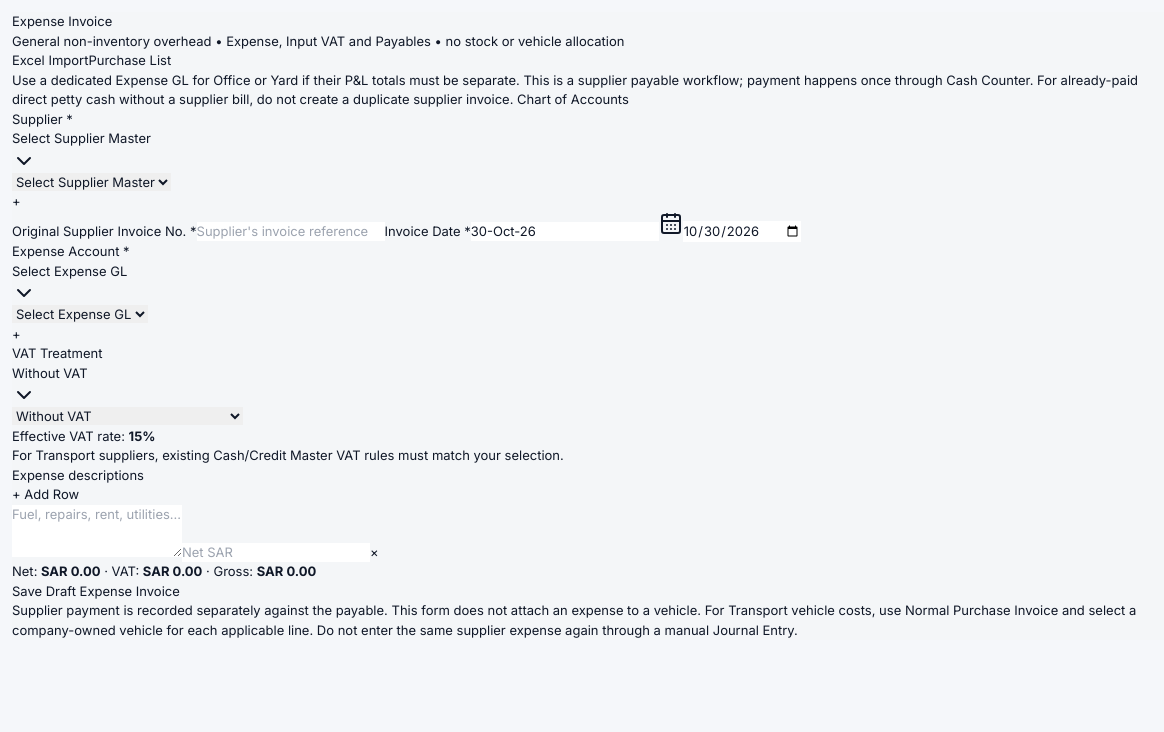
Test: General Expense Bill non-inventory workflow › never presents a false success on denied posting
The width and height of the screenshot is (1164, 732).
Select "Test Supplier" in the dropdown named "Expense invoice supplier" at (92, 182), box [12,172,171,190]
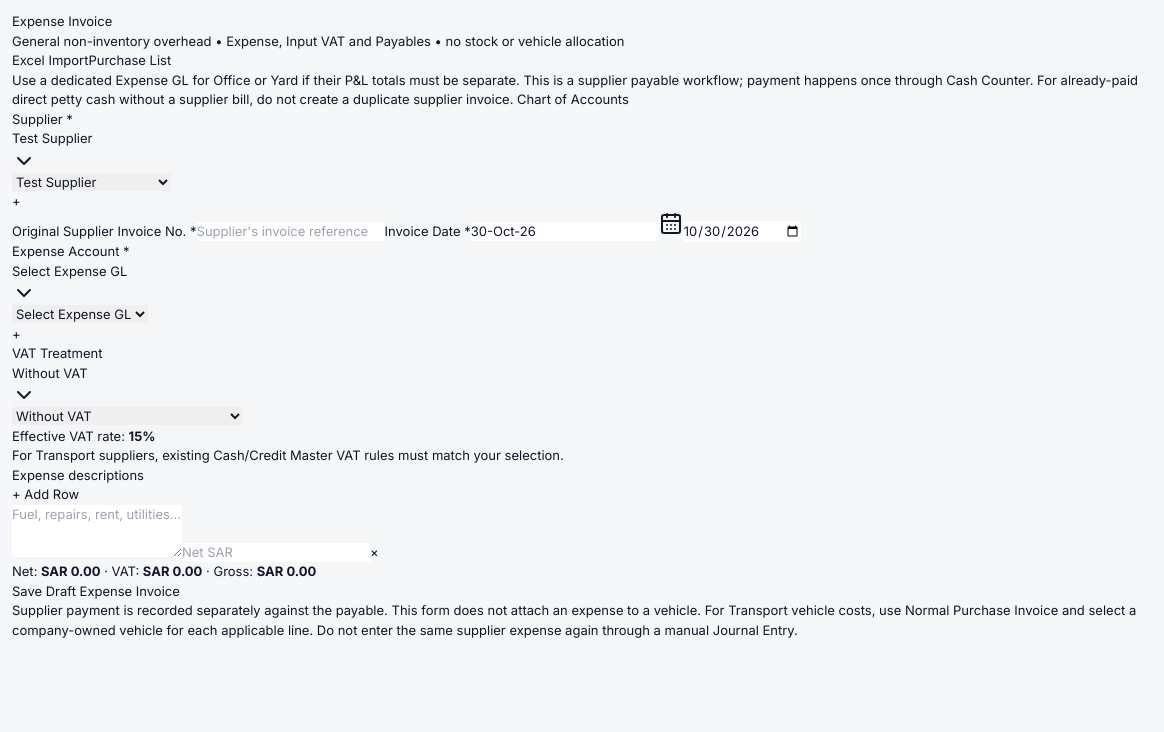
Type "SUP-001" into the field named "Expense supplier invoice number".
click(290, 231); type("SUP-001")  # box [196,222,384,241]
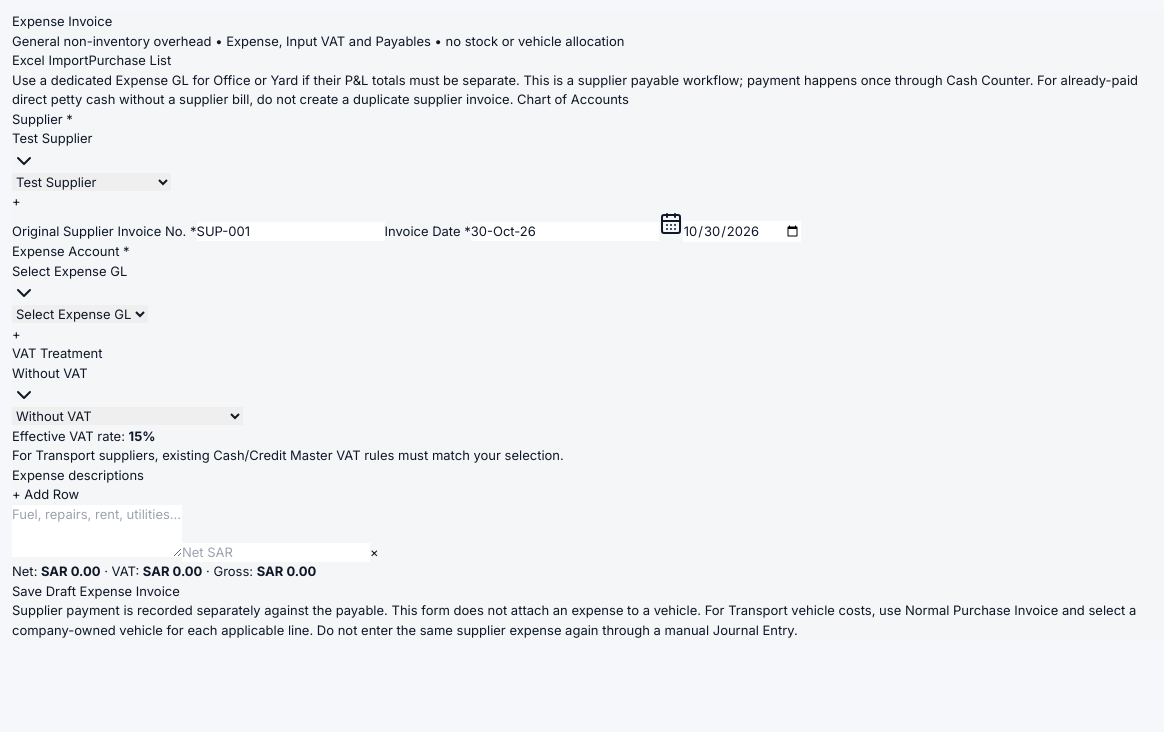
Select "Repairs Expense" in the dropdown named "Expense invoice account" at (80, 314), box [12,305,148,323]
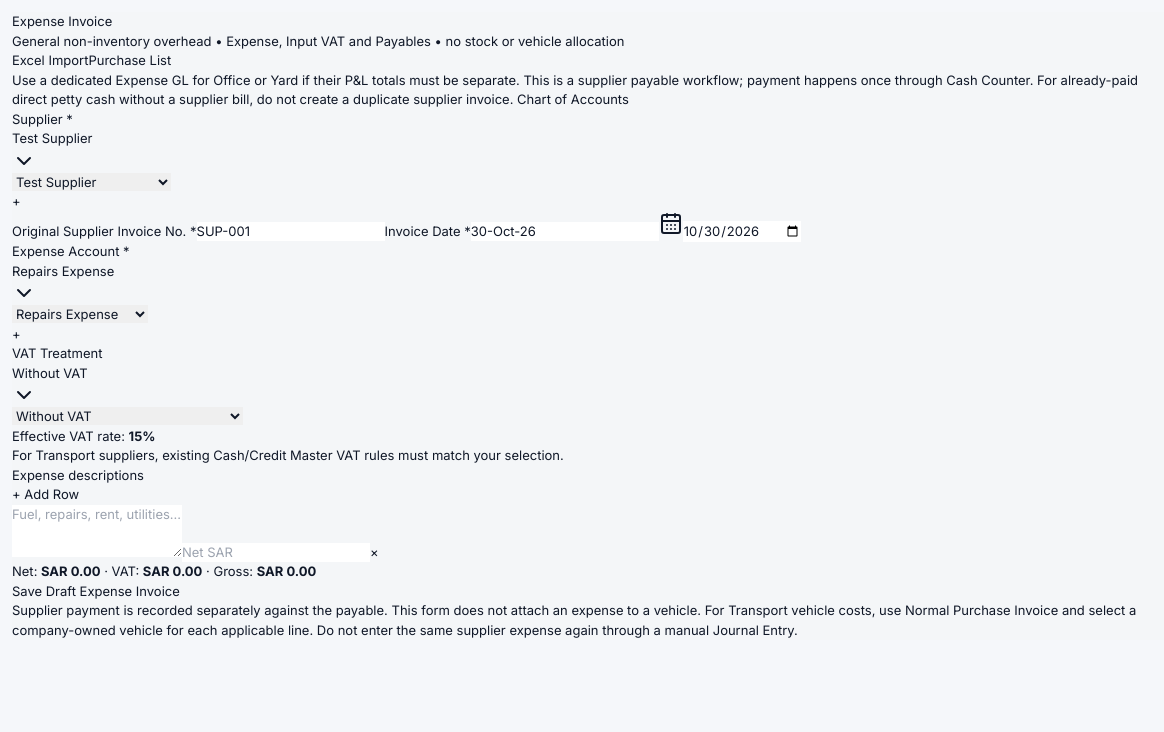
Type "Vehicle repairs" into the text box named "Expense description 1".
click(97, 530); type("Vehicle repairs")  # box [12,504,182,556]
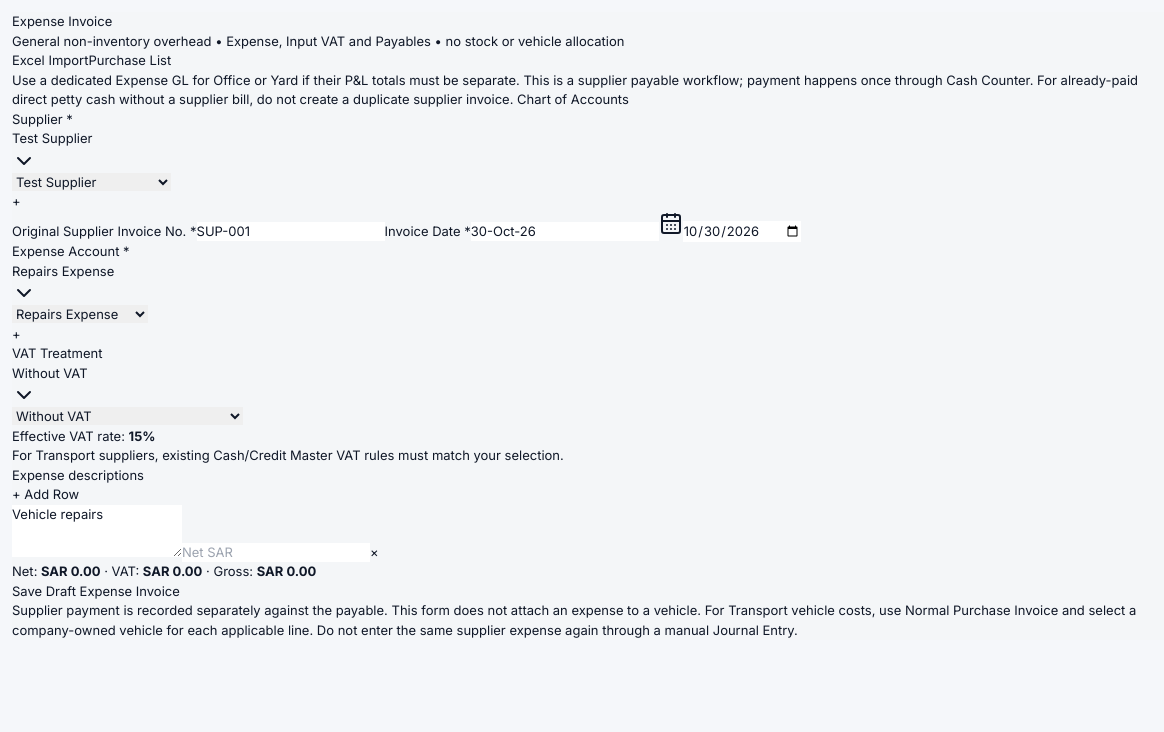
Type "100" into the field named "Expense amount 1".
click(276, 552); type("100")  # box [182,542,370,562]
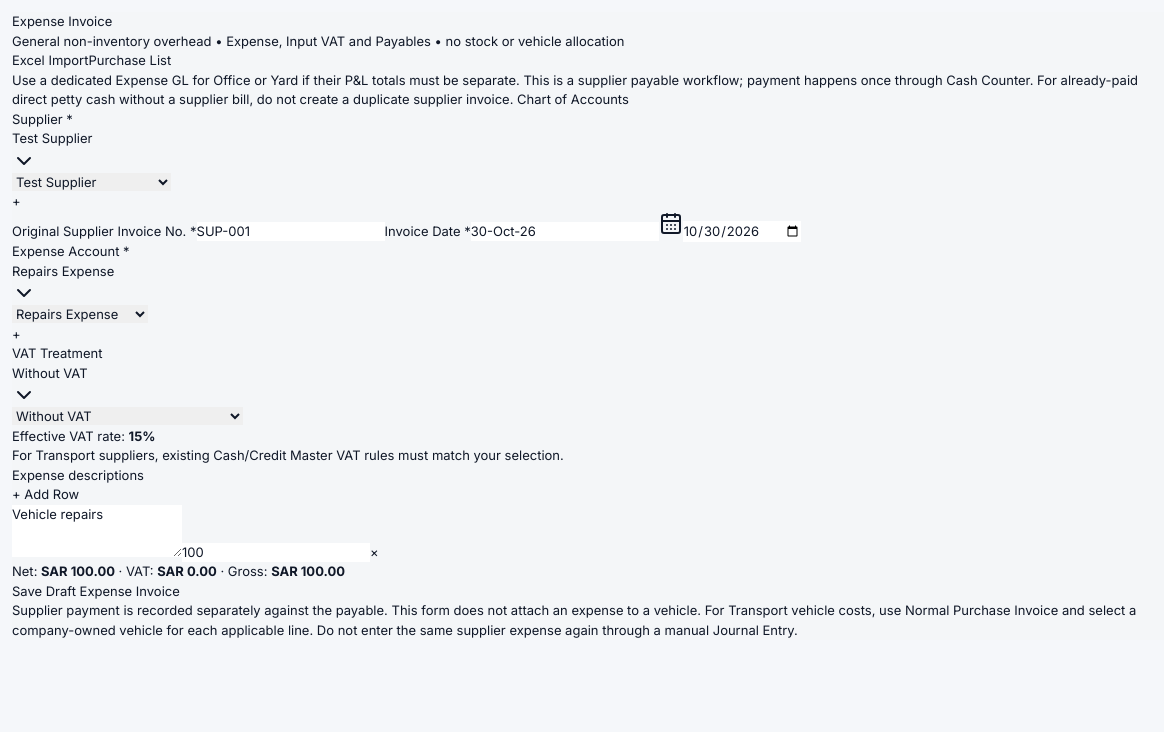
Click the button "Save Draft Expense Invoice".
click(96, 591)  # box [12,582,180,601]
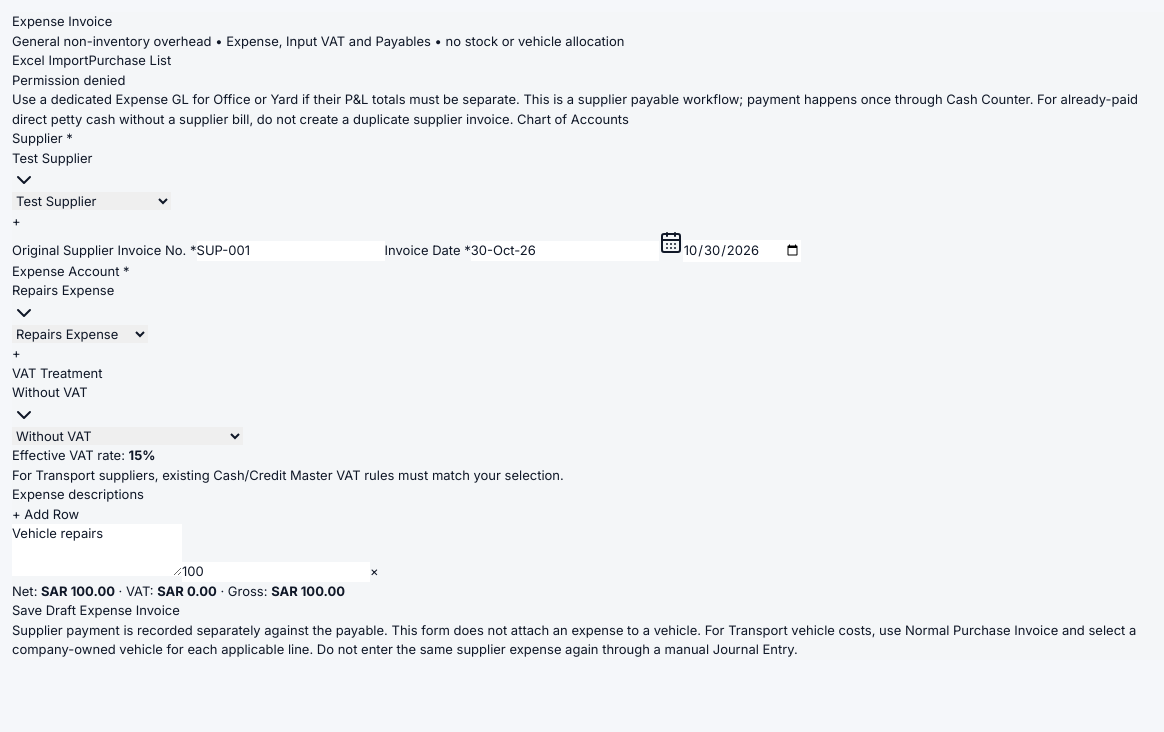
Check: the message reads "Permission denied", box [12,72,125,88]
